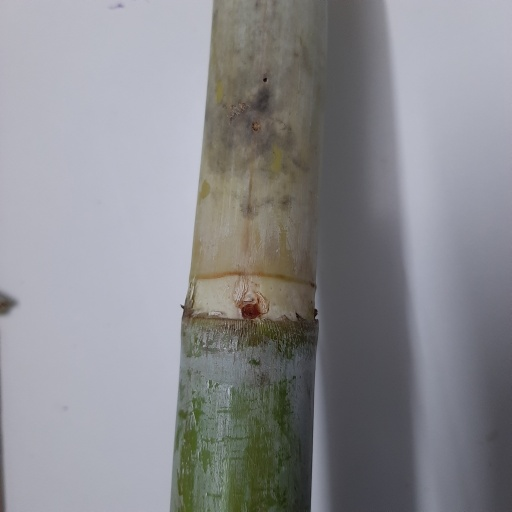Damage_Bud: (240, 301, 263, 322)
